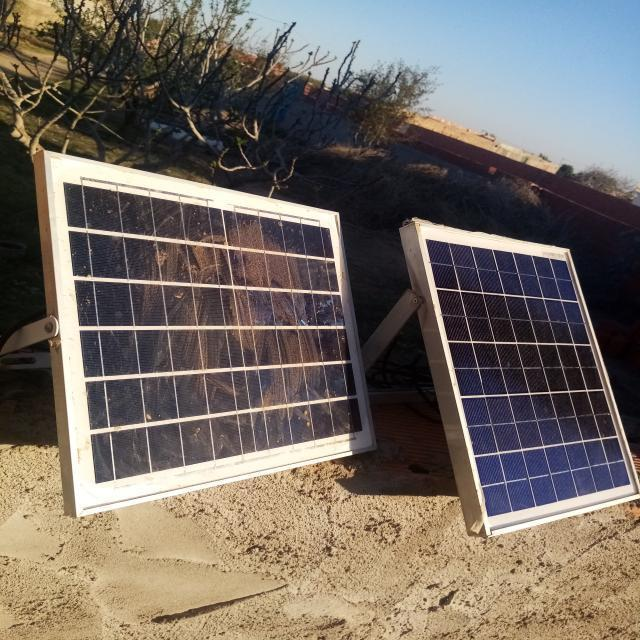Normal Solar Panel: (421, 226, 640, 534)
